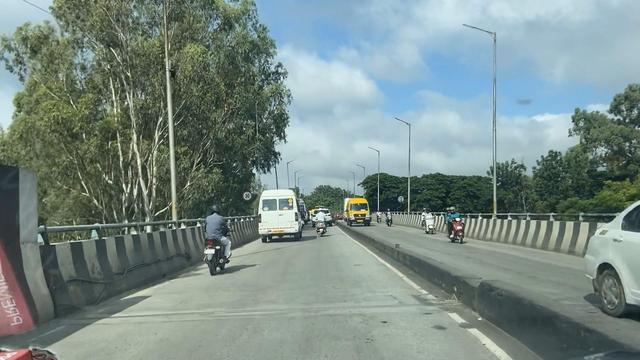HMV: (253, 189, 299, 244)
LMV: (203, 201, 229, 277), (315, 207, 327, 237)
SpeedBump: (108, 304, 449, 318)
